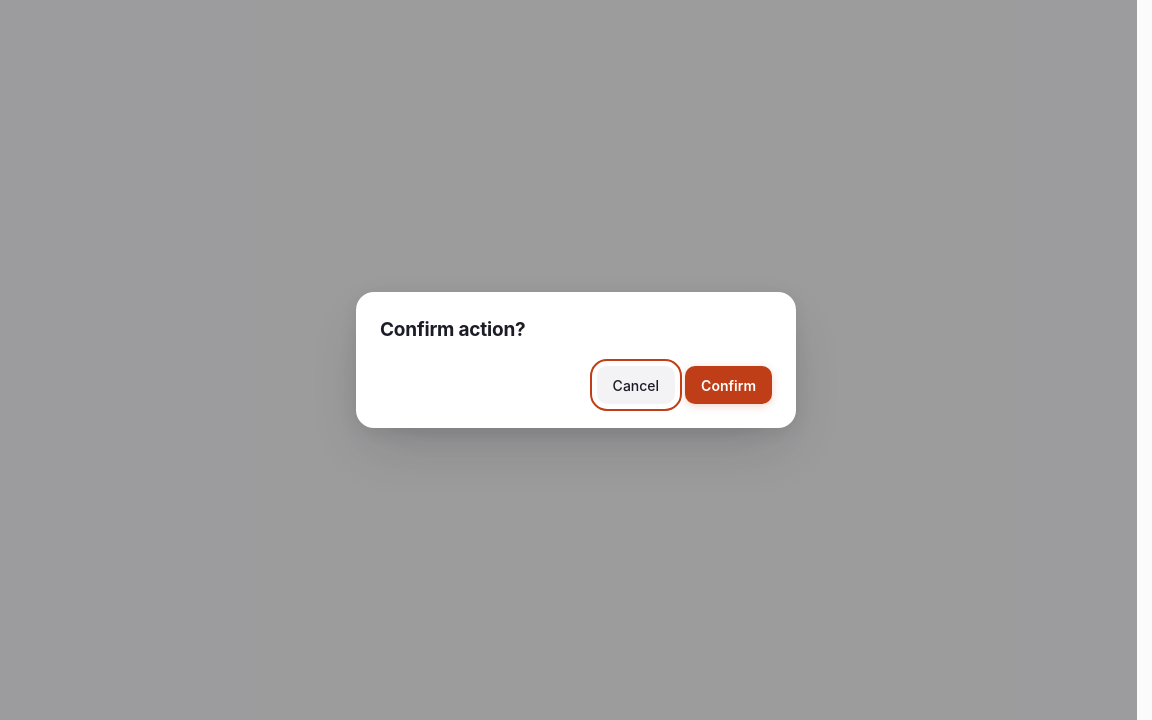
Test case: focuses cancel, prevents duplicate confirmation and keeps errors in the dialog
Later steps or results of the test are not shown.
Step 1. Click the button "Confirm" → (729, 385), box [685,366,772,404]
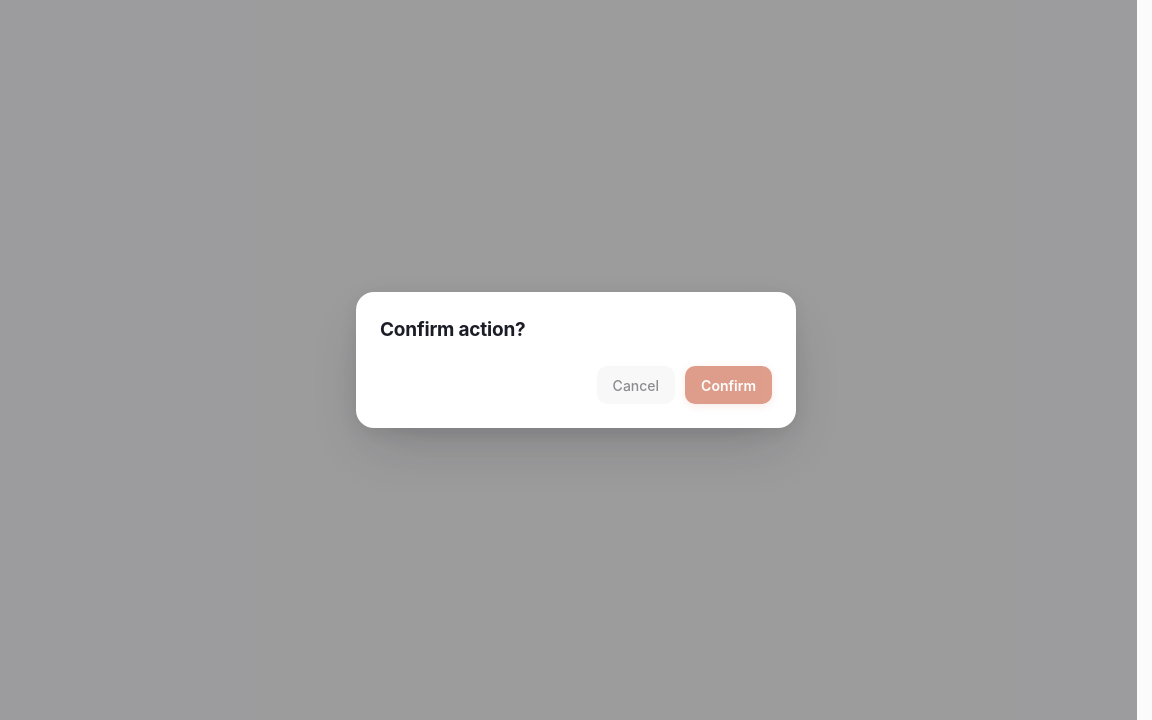
Result: the button "Confirm" is disabled
Step 2. Click the button "Confirm" → (729, 385), box [685,366,772,404]
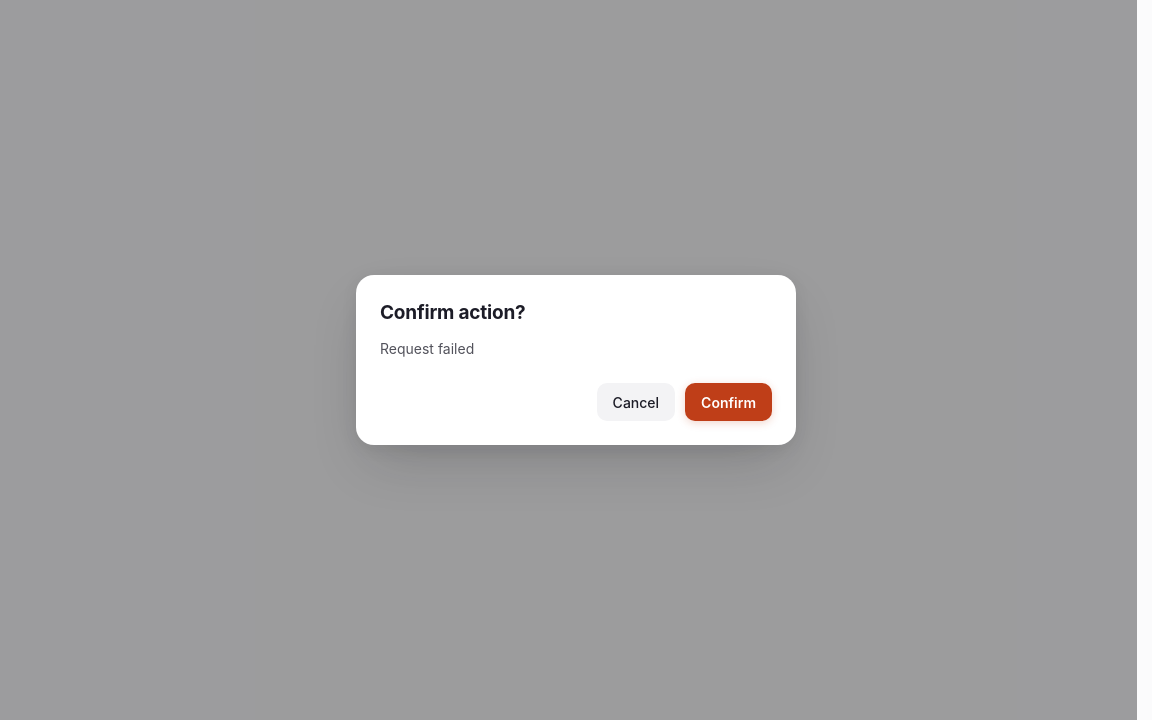
Result: the message reads "Request failed" at [380,340,474,357]
